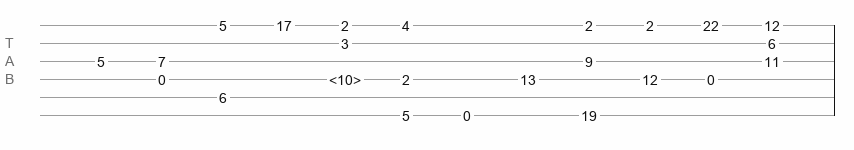0: (158, 72, 166, 82), (463, 108, 471, 118), (707, 72, 715, 82)
11: (764, 54, 780, 64)
12: (642, 72, 658, 82), (764, 18, 780, 28)
13: (520, 72, 536, 82)
17: (276, 18, 292, 28)
19: (581, 108, 597, 118)
2: (341, 18, 349, 28), (402, 72, 410, 82), (585, 18, 593, 28), (646, 18, 654, 28)
22: (703, 18, 719, 28)
3: (341, 36, 349, 46)
4: (402, 18, 410, 28)
5: (97, 54, 105, 64), (219, 18, 227, 28), (402, 108, 410, 118)
6: (219, 90, 227, 100), (768, 36, 776, 46)
7: (158, 54, 166, 64)
9: (585, 54, 593, 64)
harmonic: (329, 72, 361, 82)
